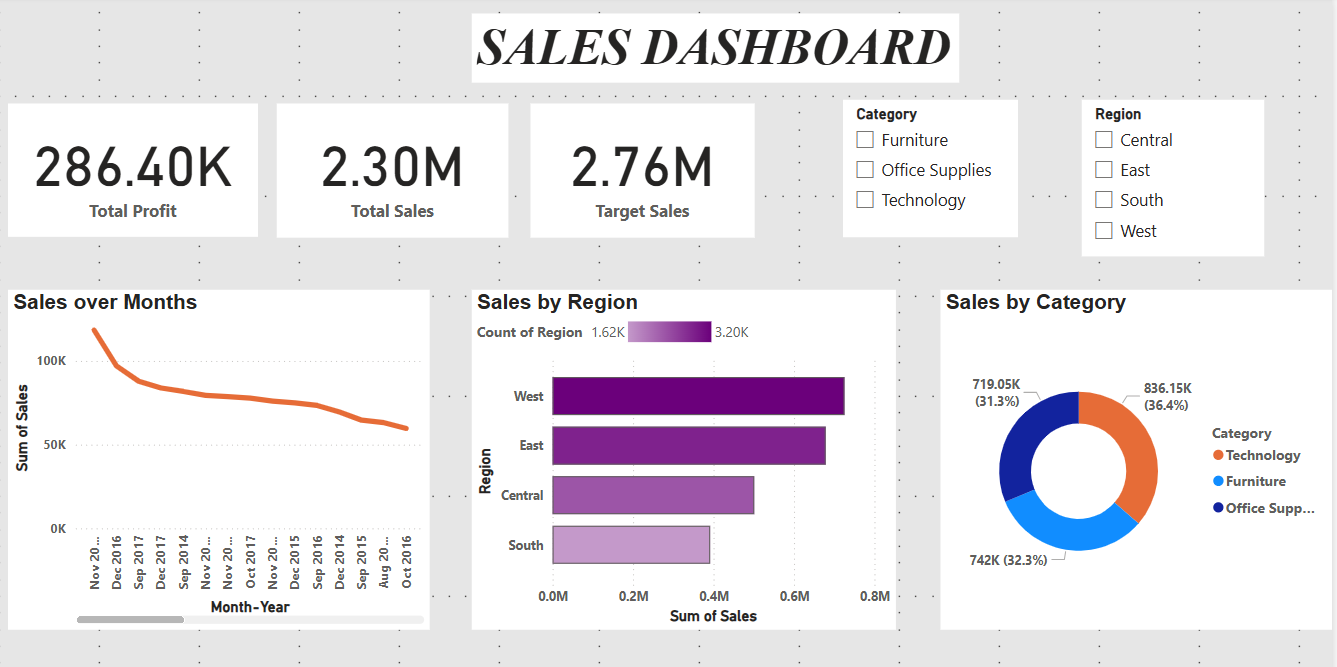

What the dashboard file says about the page in this screenshot:
{"tool":"powerbi","page":{"name":"Page 1","canvas":[1280,720],"ordinal":0},"visuals":[{"type":"textbox","box":[454.8,16.8,468,66],"z":0},{"type":"lineChart","title":"Sales over Months","fields":{"Category":["Sample - Superstore (1).Month-Year"],"Y":["Sum(Sample - Superstore (1).Sales)"]},"box":[9.8,281.8,404.9,326.2],"z":1000},{"type":"clusteredBarChart","title":" Sales by Region","fields":{"Category":["Sample - Superstore (1).Region"],"Y":["Sum(Sample - Superstore (1).Sales)"]},"box":[454.8,282,406.8,326.4],"z":2000},{"type":"donutChart","title":"Sales by Category","fields":{"Y":["Sum(Sample - Superstore (1).Sales)"],"Category":["Sample - Superstore (1).Category"]},"box":[904.8,282,375.6,326.4],"z":3000},{"type":"slicer","fields":{"Values":["Sample - Superstore (1).Category"]},"box":[811.2,99.6,168,132],"z":4000},{"type":"slicer","fields":{"Values":["Sample - Superstore (1).Region"]},"box":[1040.4,99.6,175.2,150],"z":5000},{"type":"card","fields":{"Values":["Sum(Sample - Superstore (1).Profit)"]},"box":[9.8,103.4,240,128],"z":6000},{"type":"card","fields":{"Values":["Sum(Sample - Superstore (1).Sales)"]},"box":[267.6,103.2,222,128.4],"z":7000},{"type":"card","fields":{"Values":["Sum(Sample - Superstore (1).target sales)"]},"box":[511.2,103.2,214.8,128.4],"z":8000}]}

Visuals, with their boxes on the page's 1280x720 design canvas (x1, y1, x2, y2). These are canvas units, not pixel positions in the 1337x667 screenshot, which may show the page scaled, cropped or inside an application window:
textbox: 455,17,923,83
"Sales over Months" lineChart: 10,282,415,608
" Sales by Region" clusteredBarChart: 455,282,862,608
"Sales by Category" donutChart: 905,282,1280,608
slicer - Sample - Superstore (1).Category: 811,100,979,232
slicer - Sample - Superstore (1).Region: 1040,100,1216,250
card - Sum(Sample - Superstore (1).Profit): 10,103,250,231
card - Sum(Sample - Superstore (1).Sales): 268,103,490,232
card - Sum(Sample - Superstore (1).target sales): 511,103,726,232
